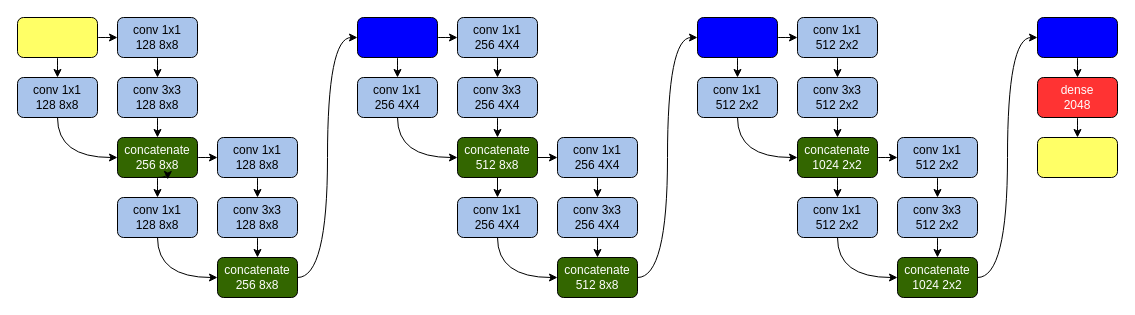
Some shapes in this 1135 by 315 pixel diagram are drawn without their labels. The shapes that lost their labels are listed below. From the top down, each one's centre as x and y in pixels, then its label:
At point 57,37: "INPUT 60 8x8".
At point 397,37: "max pool 256 4x4".
At point 737,37: "max pool 512 2x2".
At point 1077,37: "max pool 1024 1x1".
At point 1077,157: "OUTPUT 8x8".
